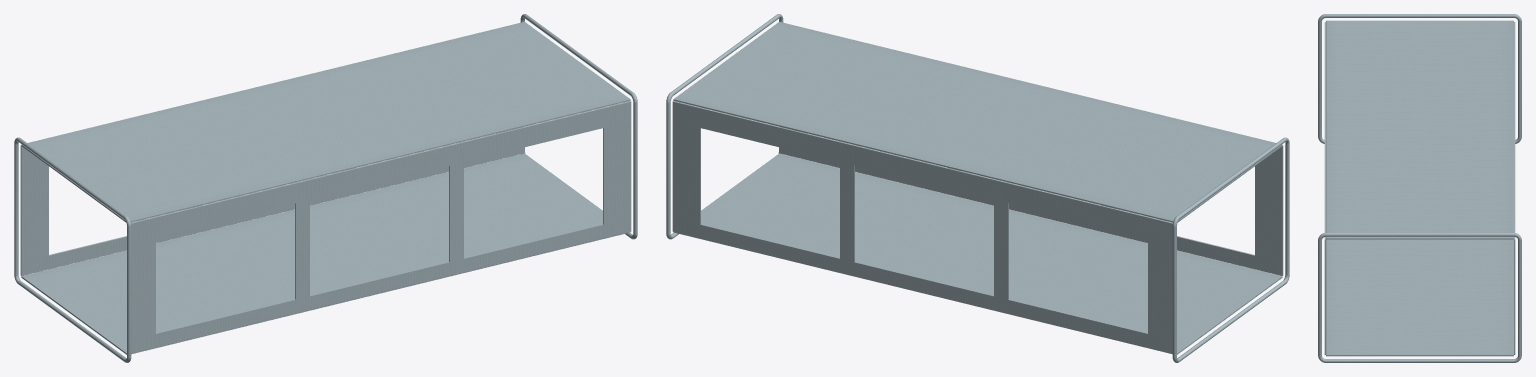
Rendered from 27-metal-lined-open-track-tunnel.fbx.
The picture shows the model from 3 angles, left to right: view 1: azimuth 30°, elevation 25°; view 2: azimuth 150°, elevation 25°; view 3: azimuth 270°, elevation 25°; orthographic projection. The views are drawn at different scales.
Parts seen in each view (by area): view 1: metal-lined-open-track-tunnel; view 2: metal-lined-open-track-tunnel; view 3: metal-lined-open-track-tunnel.
Boxes of the visible parts, x1=… form: metal-lined-open-track-tunnel: x1=14, y1=14, x2=637, y2=362; metal-lined-open-track-tunnel: x1=666, y1=14, x2=1289, y2=362; metal-lined-open-track-tunnel: x1=1318, y1=14, x2=1521, y2=362.
Bounding box in the file's own units: 17230 × 4730 × 6730.
Materials: 1 (1 with a texture image).
